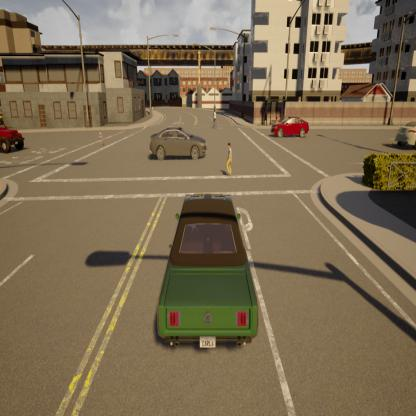Cars: (152, 189, 266, 359), (147, 124, 210, 167), (270, 115, 314, 142), (0, 114, 27, 155), (392, 118, 416, 154)
Pedestrian: (221, 140, 238, 182), (94, 124, 105, 150)
